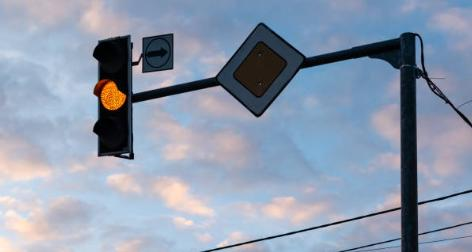yellow_light: (93, 35, 132, 157)
